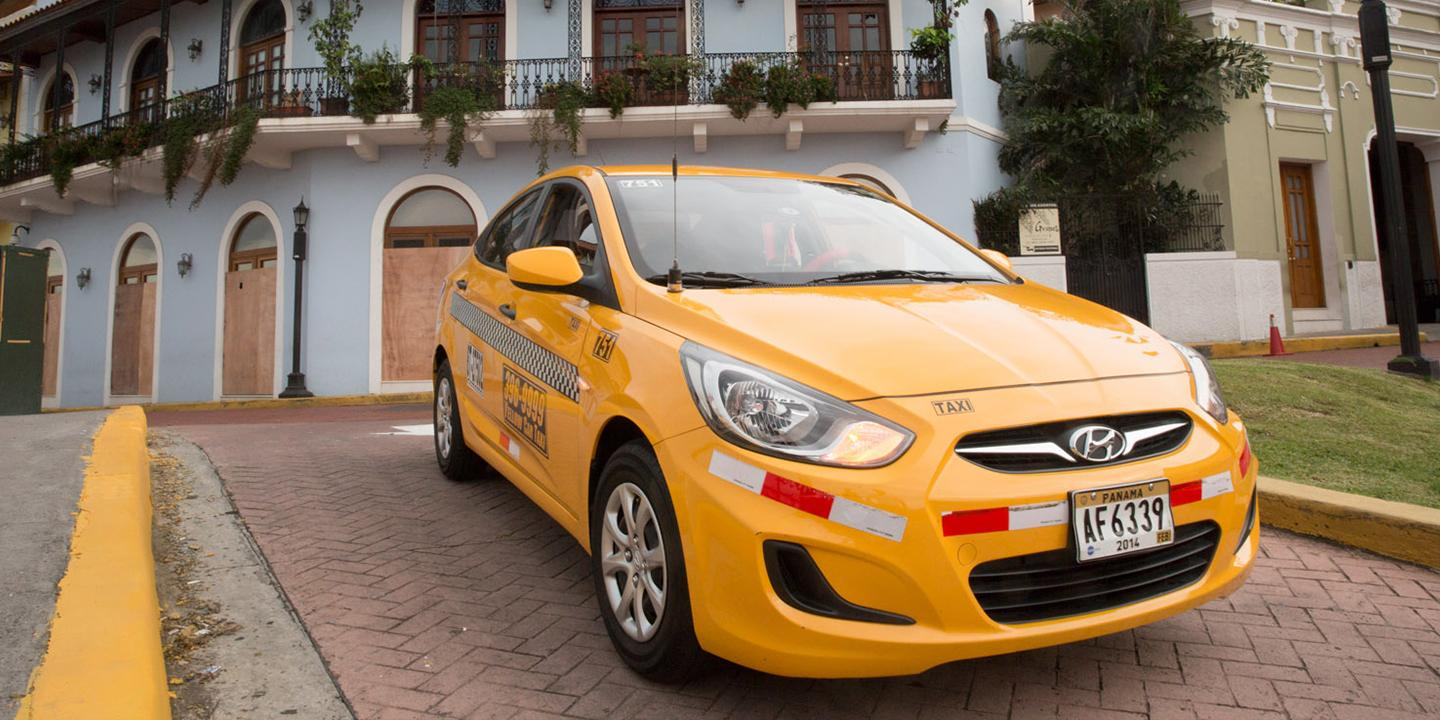taxi: (444, 123, 1272, 720)
